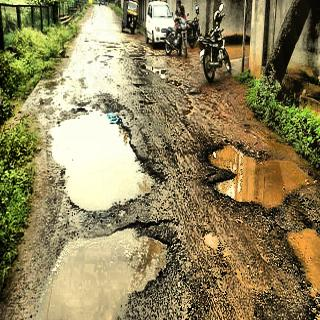pothole: (34, 217, 172, 320), (44, 99, 162, 207), (200, 132, 311, 208), (284, 226, 320, 310), (140, 64, 182, 88)
